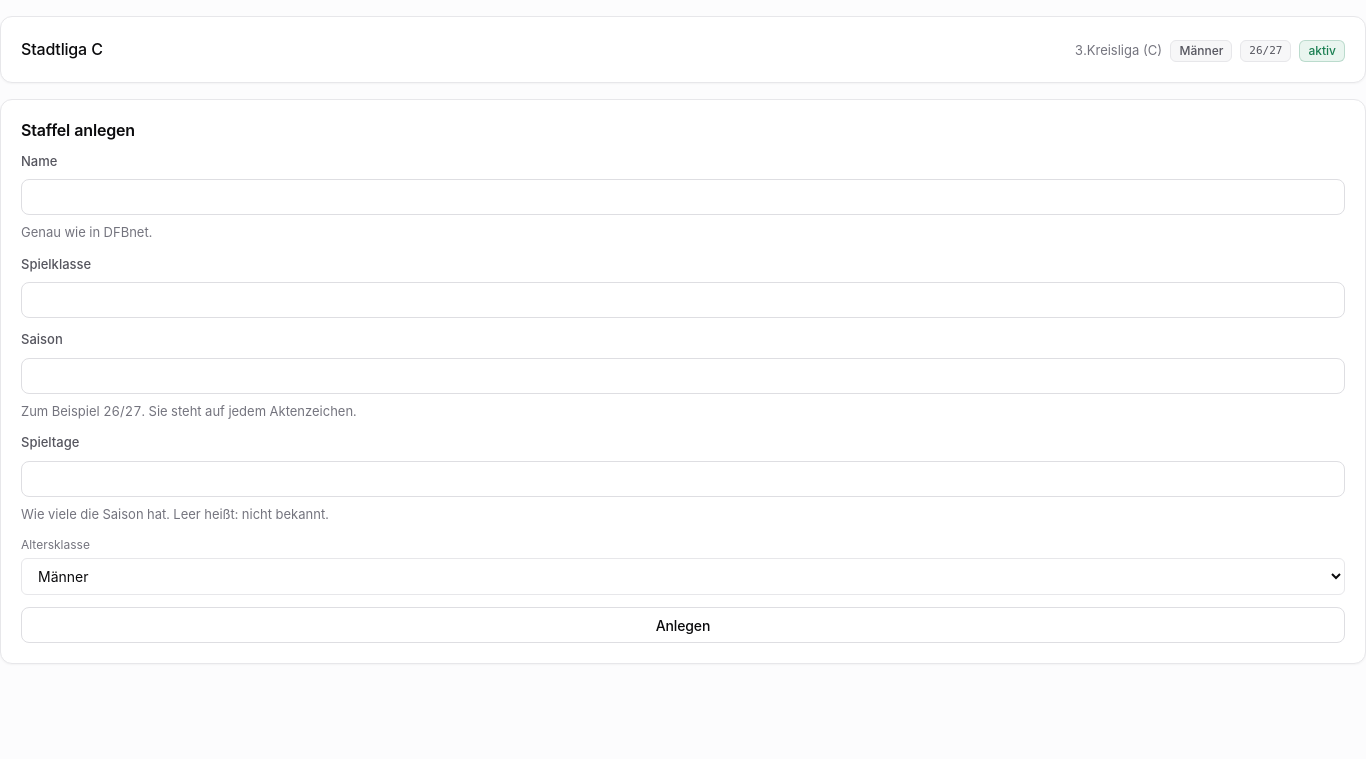
Test: Staffeln verwalten › lässt sich die Rückfrage abbrechen
Step 1. Click the button "Stadtliga C 3.Kreisliga (C) Männer 26/27 aktiv" → (62, 49), box [21, 37, 1345, 62]
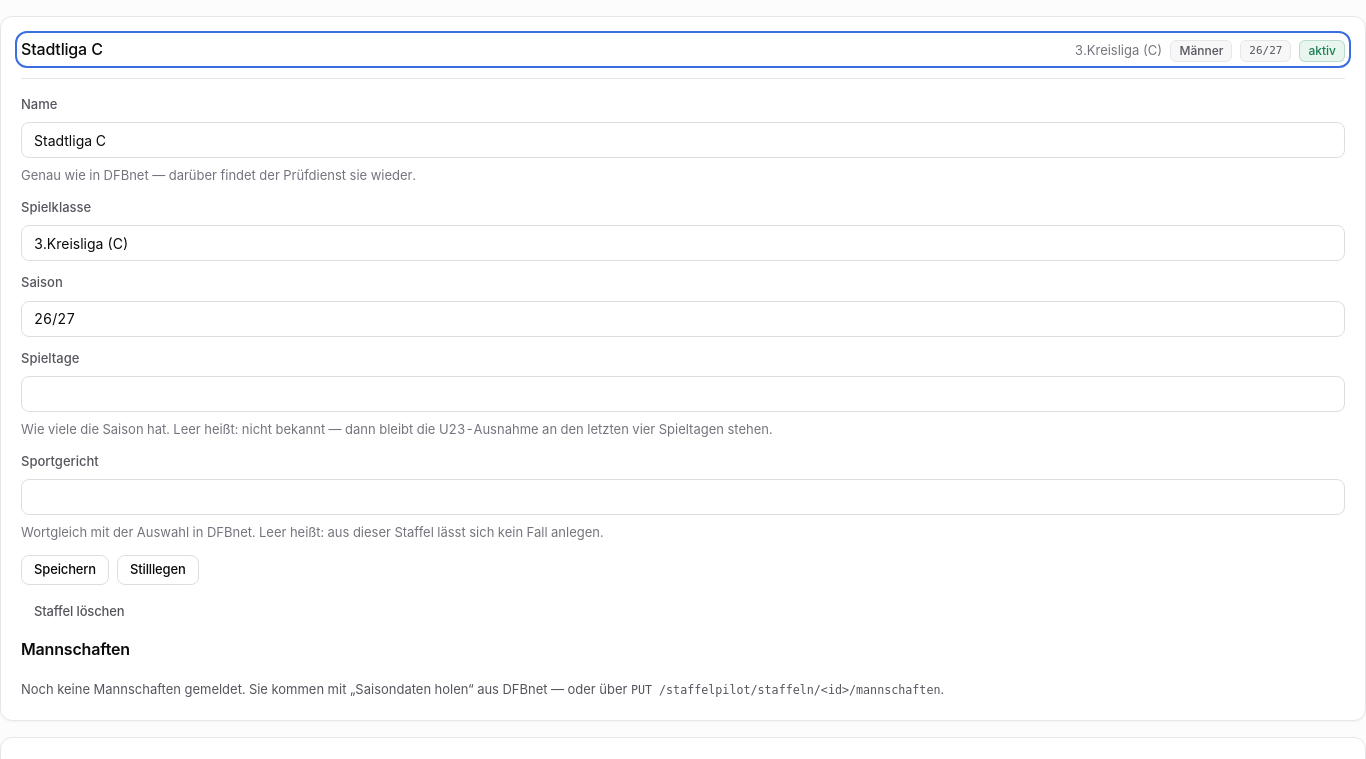
Step 2. Click the button "Staffel löschen" → (79, 612), box [21, 597, 137, 627]
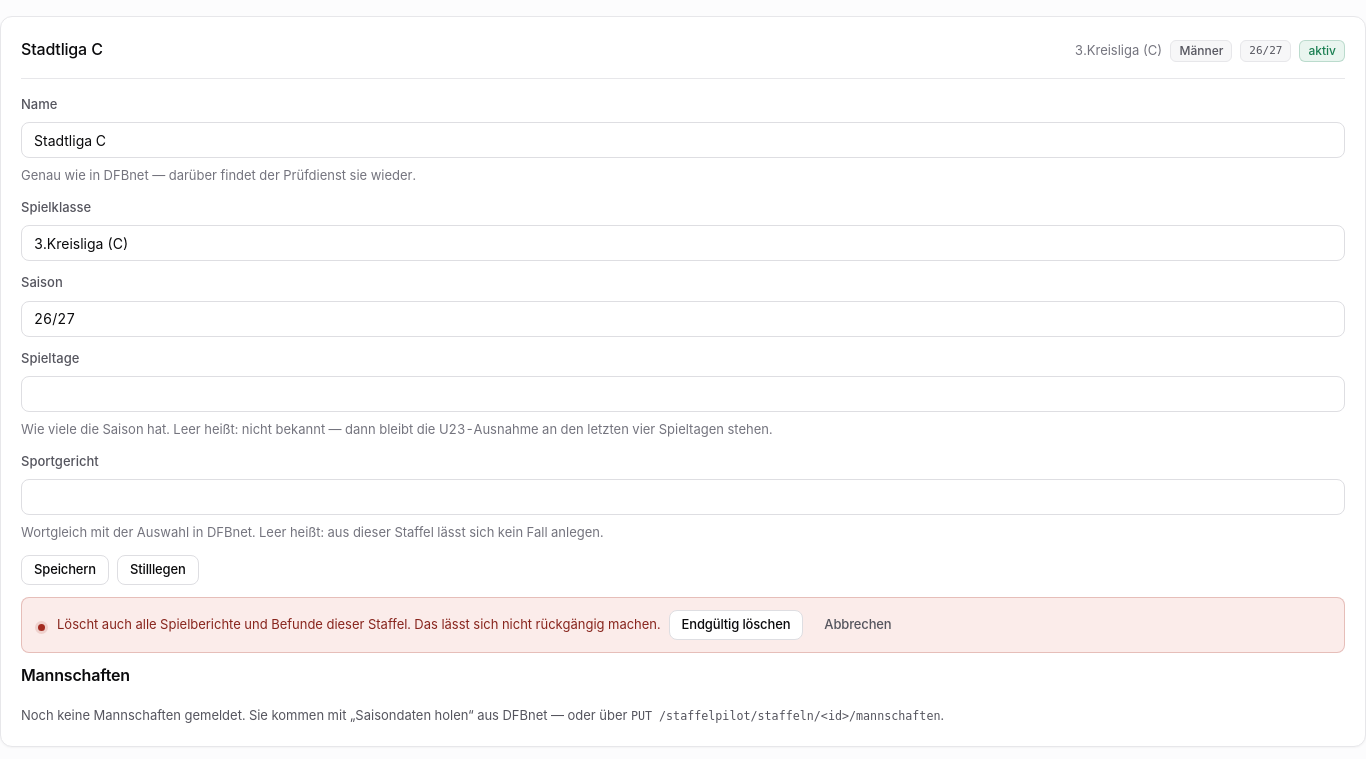
Step 3. Click the button "Abbrechen" → (858, 625), box [811, 610, 904, 640]
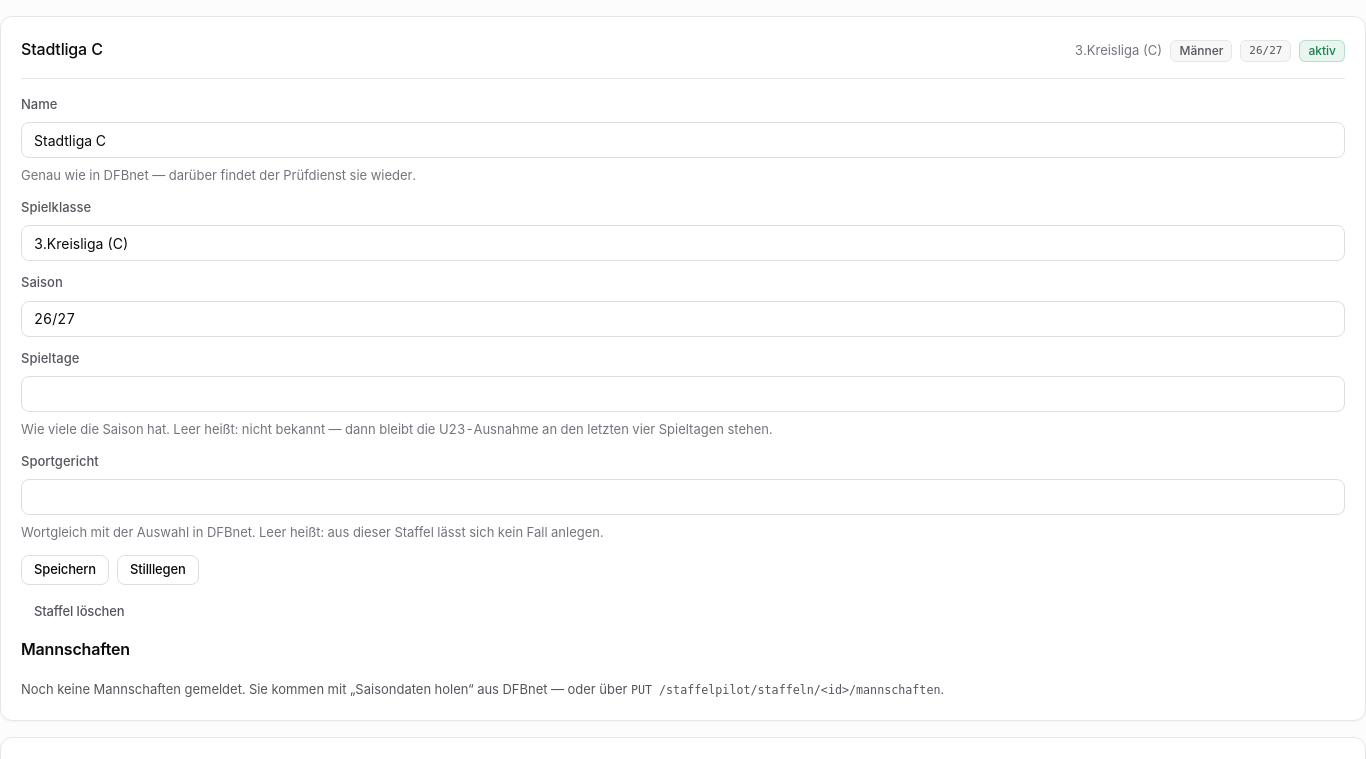
Now the message "Löscht auch alle Spielberichte und Befunde dieser Staffel. Das lässt sich nicht" is gone
